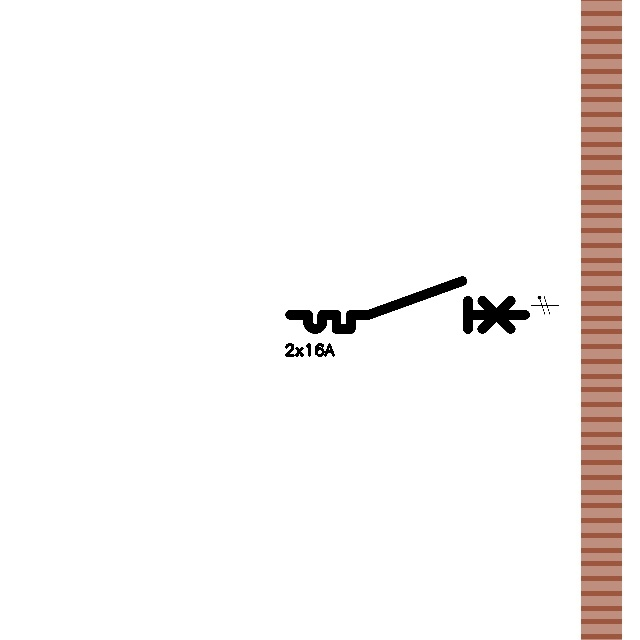interruptor_termomagnetico: (284, 275, 531, 335)
